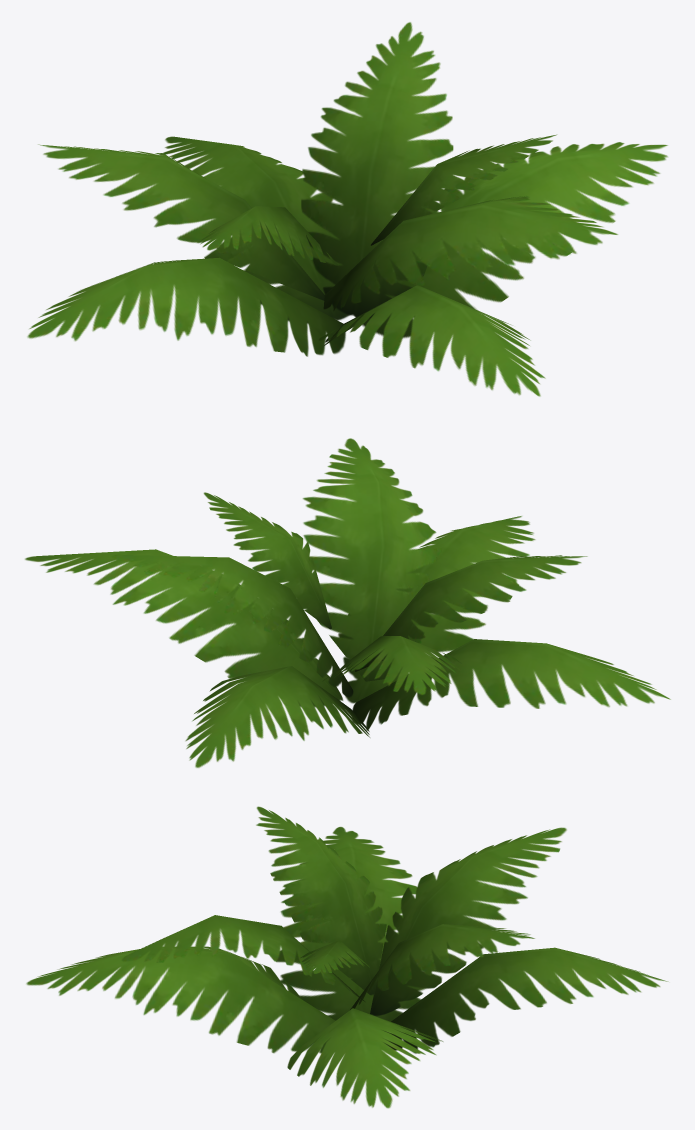
The model's file is fern.glb.
The picture shows the model from 3 angles, top to bottom: view 1: azimuth 30°, elevation 25°; view 2: azimuth 150°, elevation 25°; view 3: azimuth 270°, elevation 25°; orthographic projection. The views are drawn at different scales.
Parts seen in each view (by area): view 1: Fern_1; view 2: Fern_1; view 3: Fern_1.
Boxes of the visible parts, x1=… form: Fern_1: x1=27, y1=22, x2=667, y2=396; Fern_1: x1=25, y1=438, x2=670, y2=767; Fern_1: x1=26, y1=806, x2=668, y2=1108.
Bounding box in the file's own units: 9.05 × 2.69 × 8.49.
Materials: 1 (1 with a texture image).
